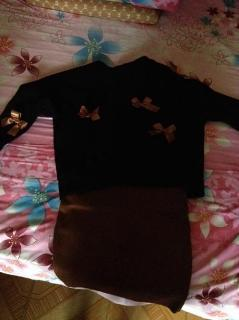long sleeve top: (0, 56, 239, 198)
skirt: (52, 181, 193, 314)
